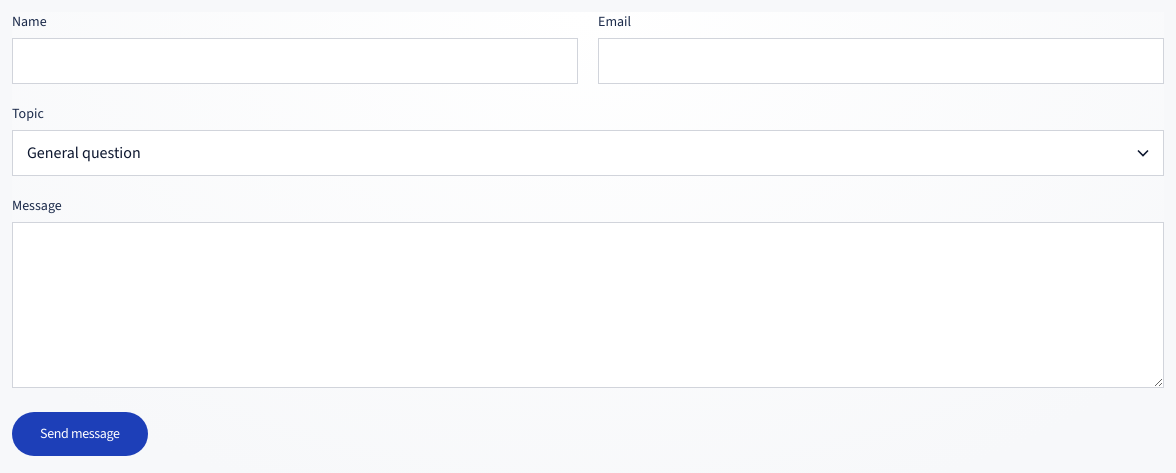
Test case: ContactFormActive › posts to /api/contact and shows the success message
Type "Ada" into the field labelled "Name". click: (295, 61)
box: [12,38,578,84]
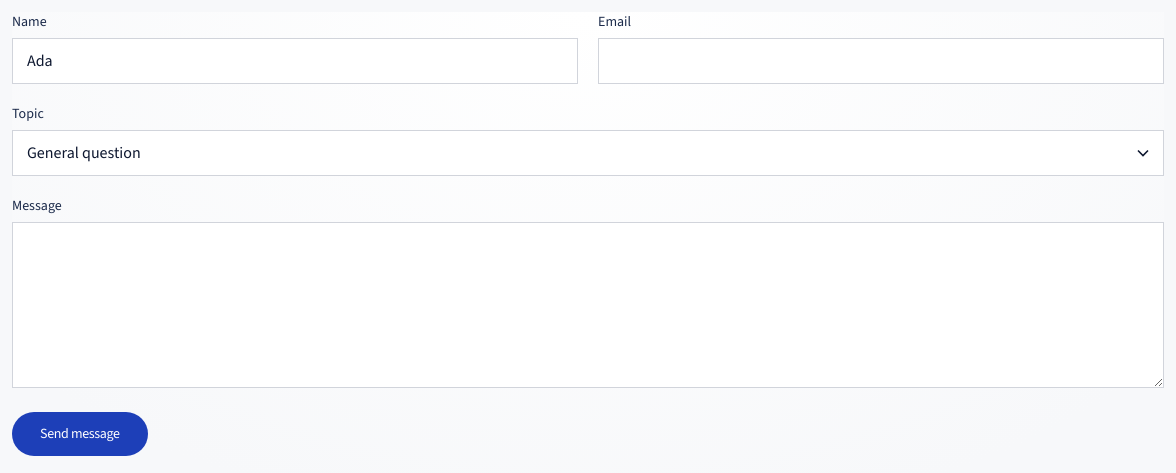
Type "ada@utoronto.ca" into the field labelled "Email". click: (881, 61)
box: [598,38,1164,84]
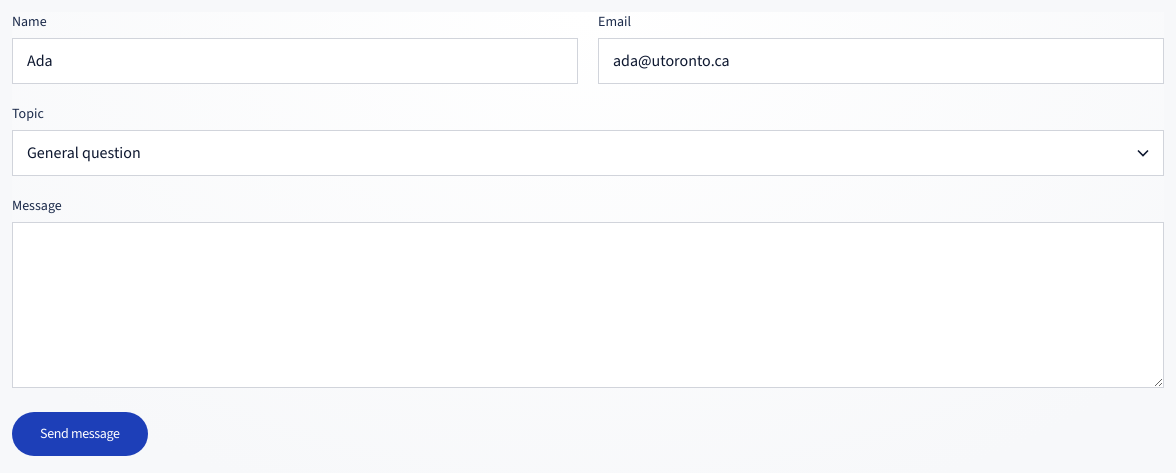
Type "I'd love to join." into the text box labelled "Message". click: (588, 305)
box: [12,222,1164,388]
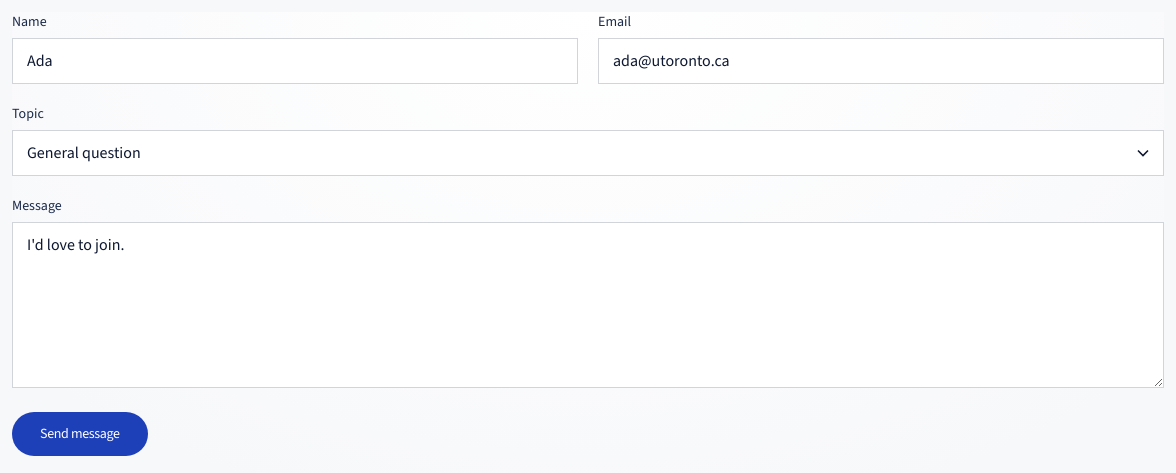
Click the button "Send message". click: click(80, 434)
box: [12,412,148,456]
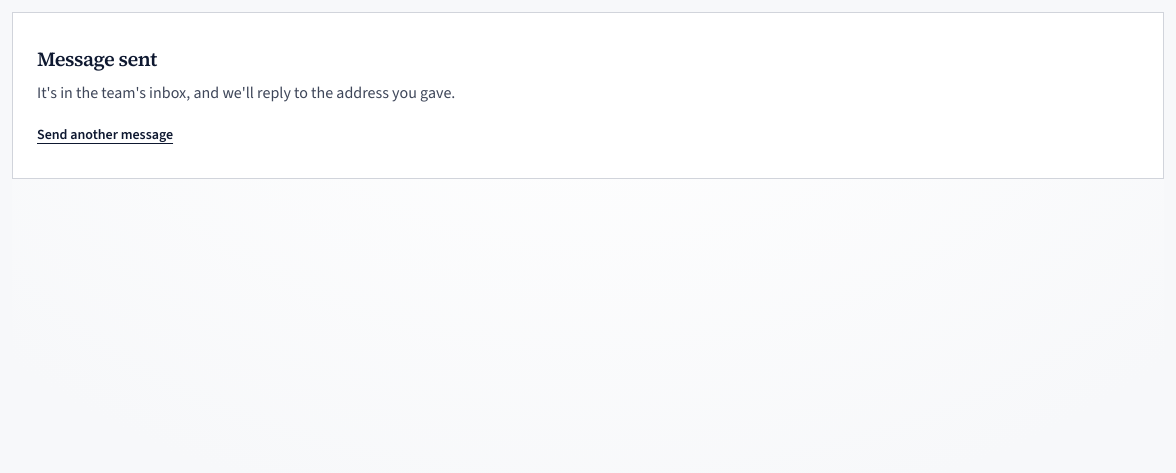
Now the text "It's in the team's inbox, and we'll reply to the address you gave." is shown, box [37,82,455,103]
